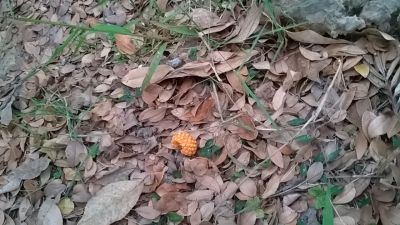eggs: (170, 131, 198, 155)
